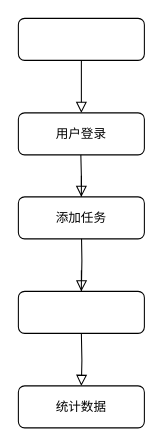
Some shapes in this 163 by 446 pixel diagram are drawn without their labels. The shapes that lost their labels are listed below. From the top down, each one's centre as x and y in pixels, then its label:
(80,38): 用户注册
(80,311): 执行任务
